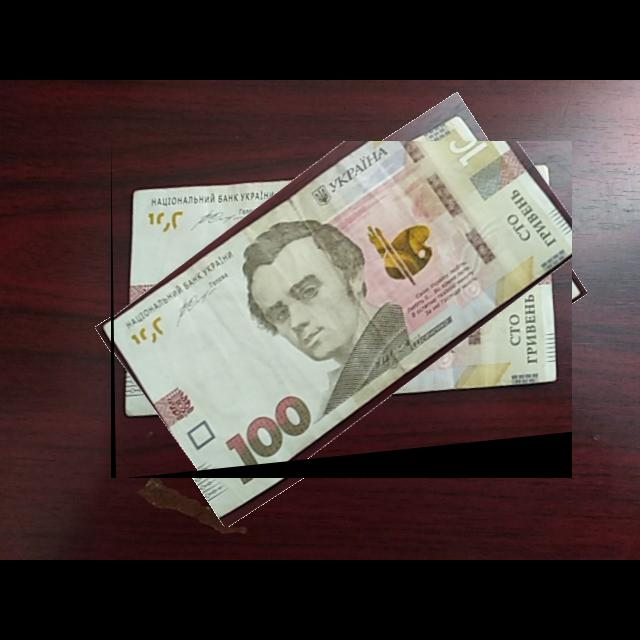100uah: (111, 141, 573, 479)
